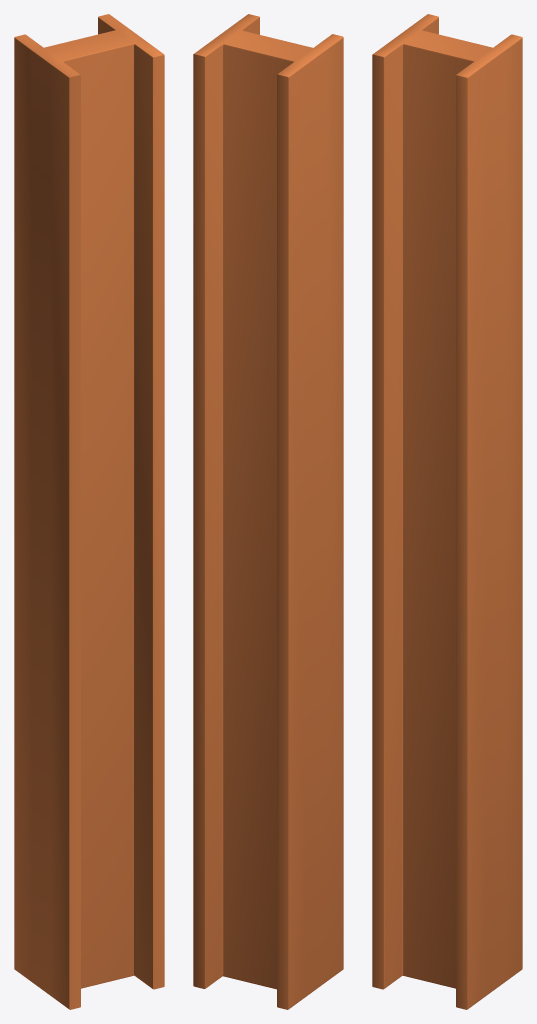
File: poutre.fbx
3 renders of one model, left to right at view 1: azimuth 30°, elevation 25°; view 2: azimuth 150°, elevation 25°; view 3: azimuth 330°, elevation 25°, orthographic.
Visible parts, largest first — view 1: Cube; view 2: Cube; view 3: Cube.
Part boxes in pixels (x1,y1,x2,y2): Cube: [14, 14, 164, 1009]; Cube: [193, 14, 343, 1009]; Cube: [372, 14, 522, 1009].
Bounding box in the file's own units: 82.98 × 772 × 82.98.
